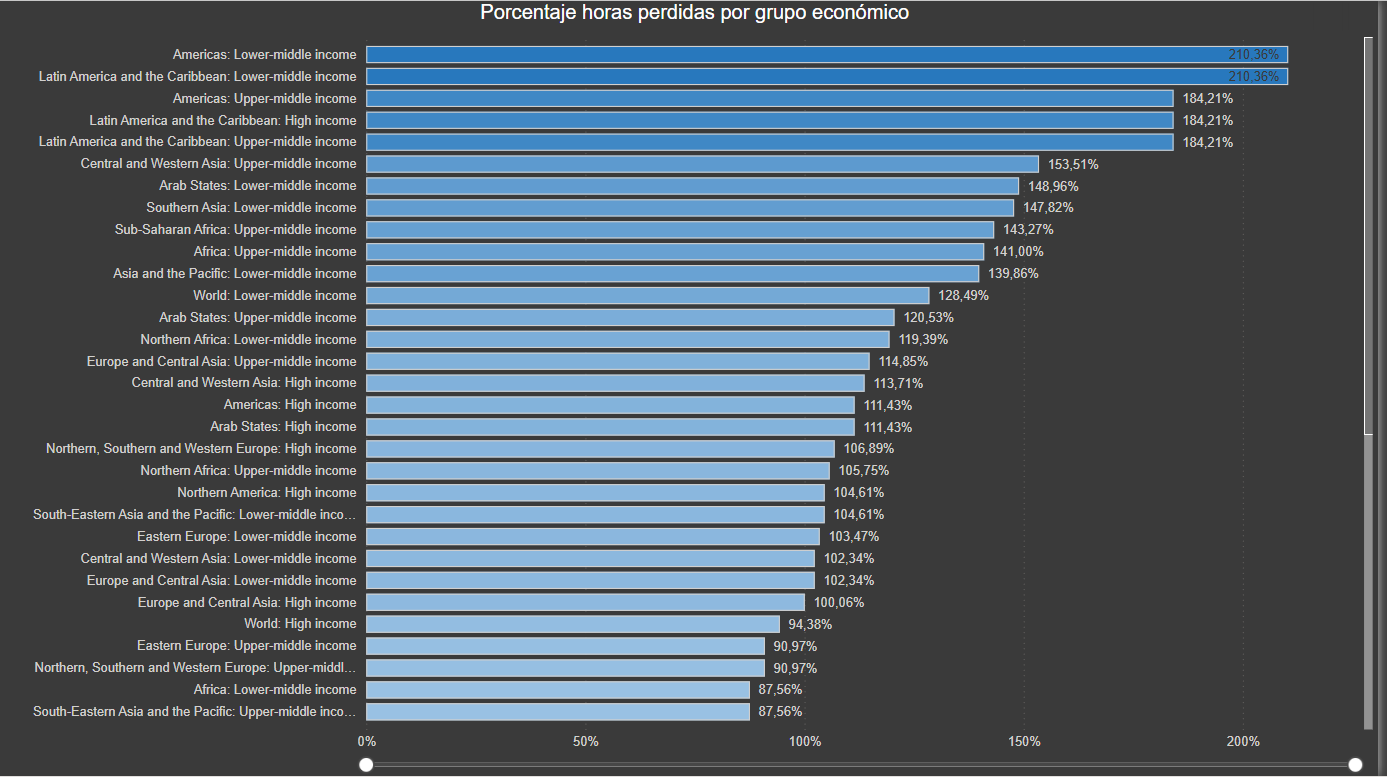

This screenshot's page, from the dashboard's own definition file:
{"tool":"powerbi","page":{"name":"Income_group","canvas":[1280,720],"ordinal":1},"visuals":[{"type":"clusteredBarChart","title":"Porcentaje horas perdidas por grupo económico","fields":{"Y":["Sum(Covid_employment_data1.Percentage_of_Working_hrs_Lost)"],"Category":["Covid_employment_data1.IncomeGp"]},"box":[10,0,1270,720],"z":0}]}

Visuals, with their boxes in screenshot pixels (x1, y1, x2, y2), scaled from the page's 1280x720 canvas onto the 1387x777 screenshot:
"Porcentaje horas perdidas por grupo económico" clusteredBarChart: left=11, top=0, right=1386, bottom=776
